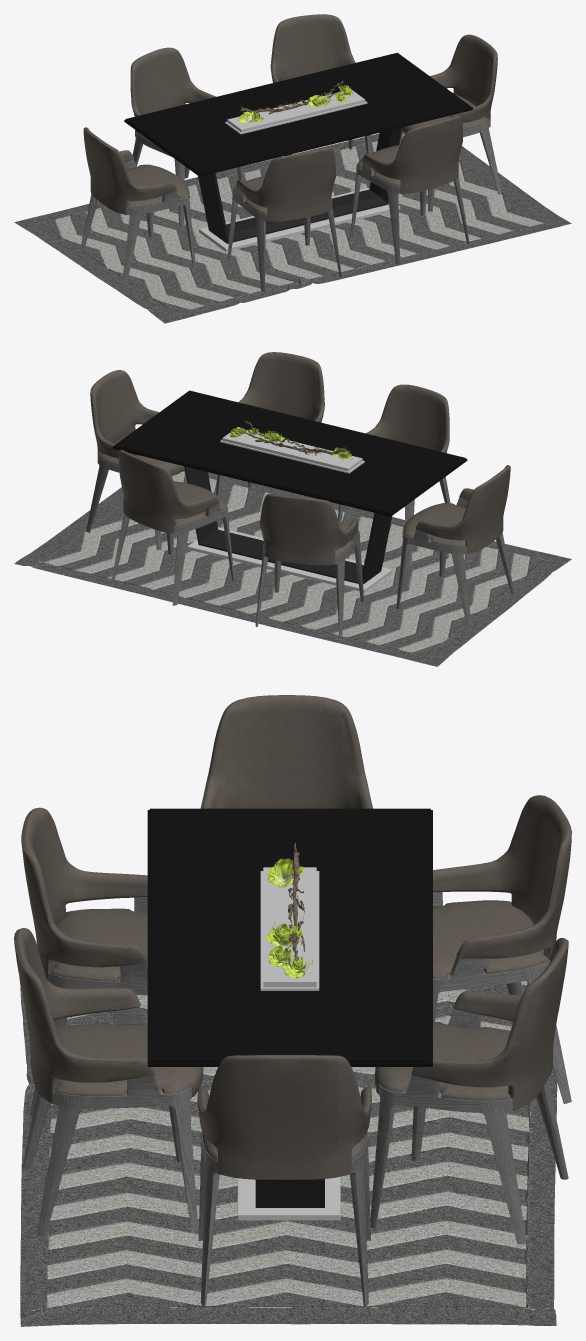
The model's file is dinningtable.gltf.
3 renders of one model, top to bottom at view 1: azimuth 30°, elevation 25°; view 2: azimuth 150°, elevation 25°; view 3: azimuth 270°, elevation 25°, orthographic. The views are drawn at different scales.
Parts seen in each view (by area): view 1: DinngingTable; view 2: DinngingTable; view 3: DinngingTable.
Part boxes in pixels (bbox=[...]): DinngingTable: bbox=[14, 14, 571, 323]; DinngingTable: bbox=[14, 352, 571, 666]; DinngingTable: bbox=[14, 695, 571, 1326].
Bounding box in the file's own units: 2.72 × 0.8447 × 1.66.
9 materials, 6 textured.
